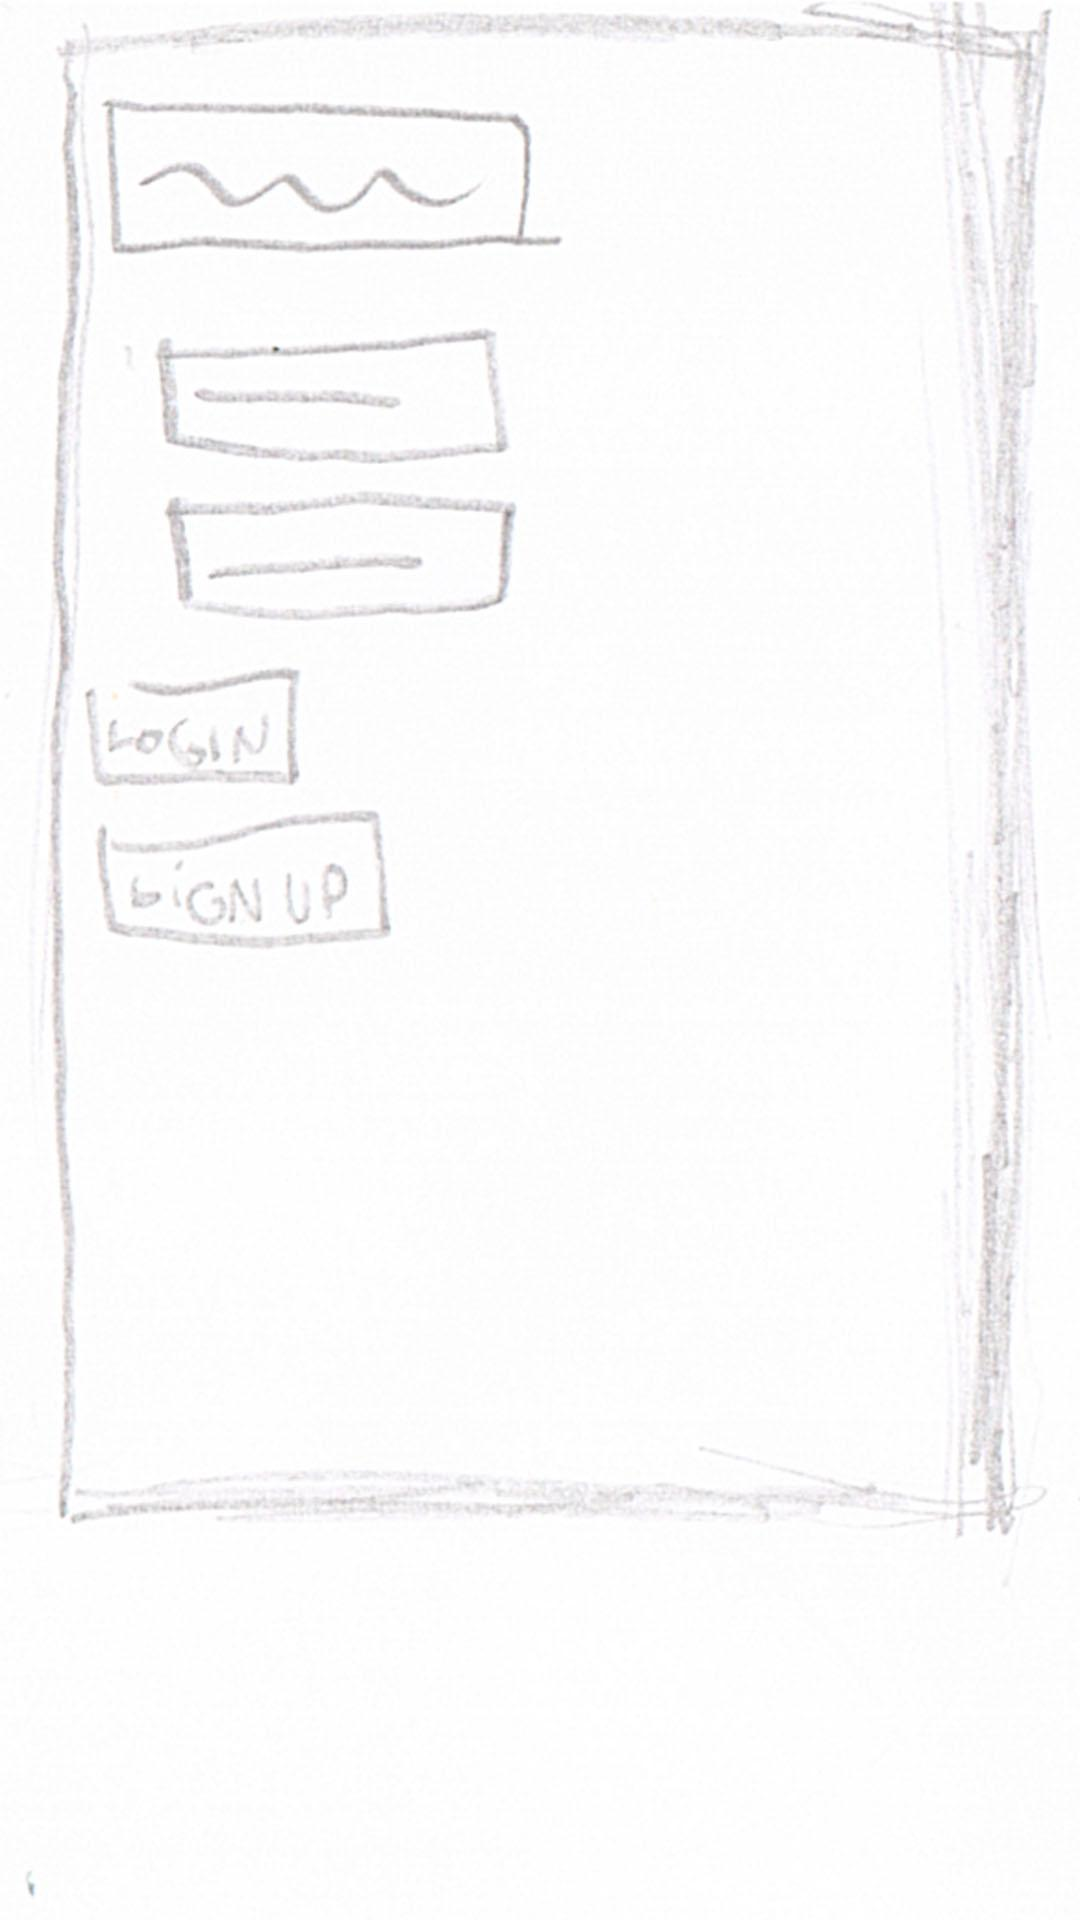Button: (107, 99, 534, 255), (100, 808, 388, 947), (86, 666, 302, 787)
Screen: (61, 24, 1013, 1511)
TextBox: (162, 331, 510, 467), (167, 491, 518, 622)
